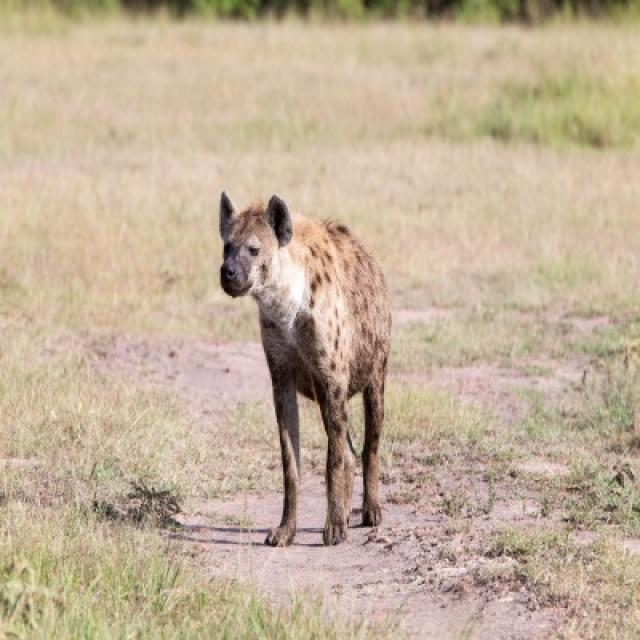hyena: (219, 192, 390, 544)
